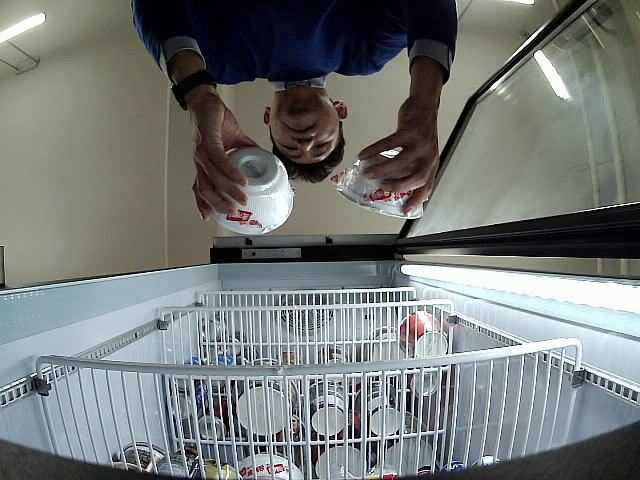00_hand: (356, 87, 442, 215), (187, 95, 260, 221)
09_yukGaeJang: (213, 146, 294, 234), (336, 152, 424, 218)
